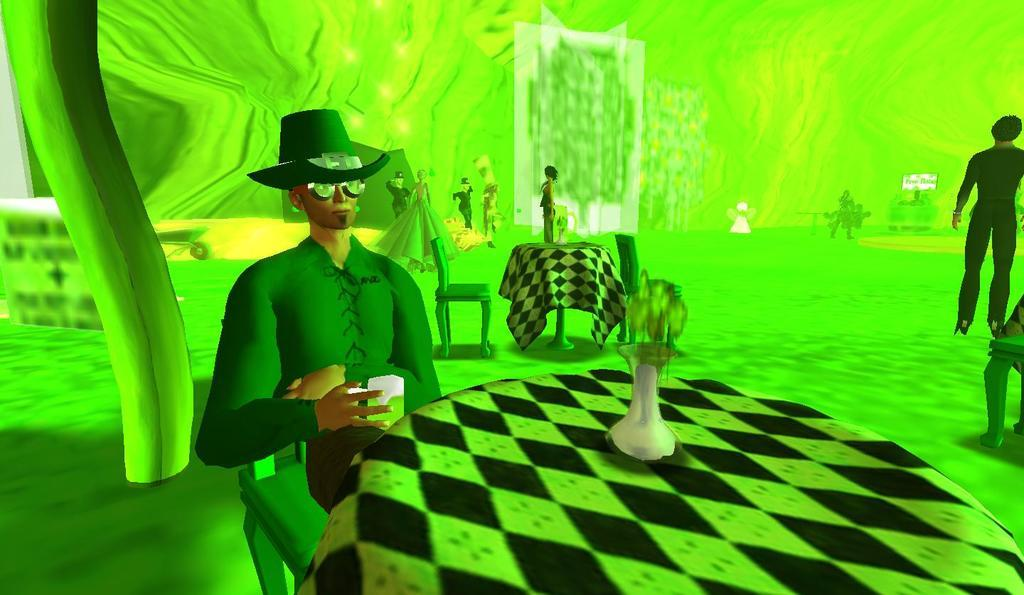Hat: (247, 111, 392, 193)
